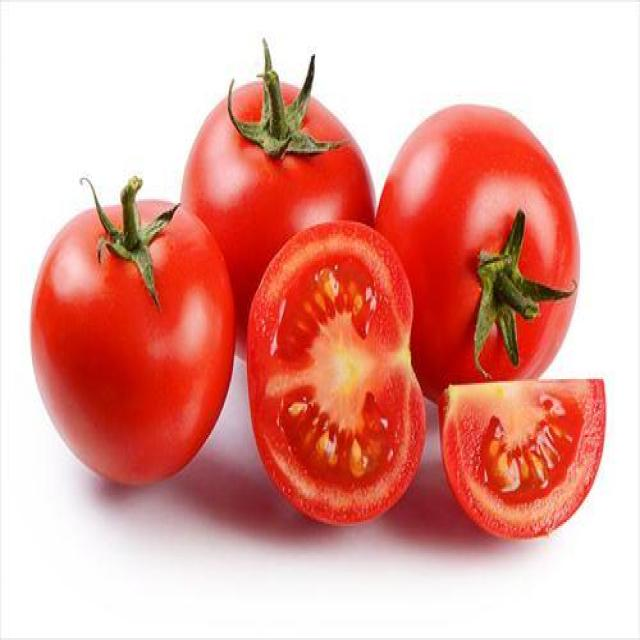Tomato: (373, 85, 586, 425), (177, 38, 379, 382), (27, 176, 237, 495), (244, 219, 430, 533), (435, 375, 614, 542)
